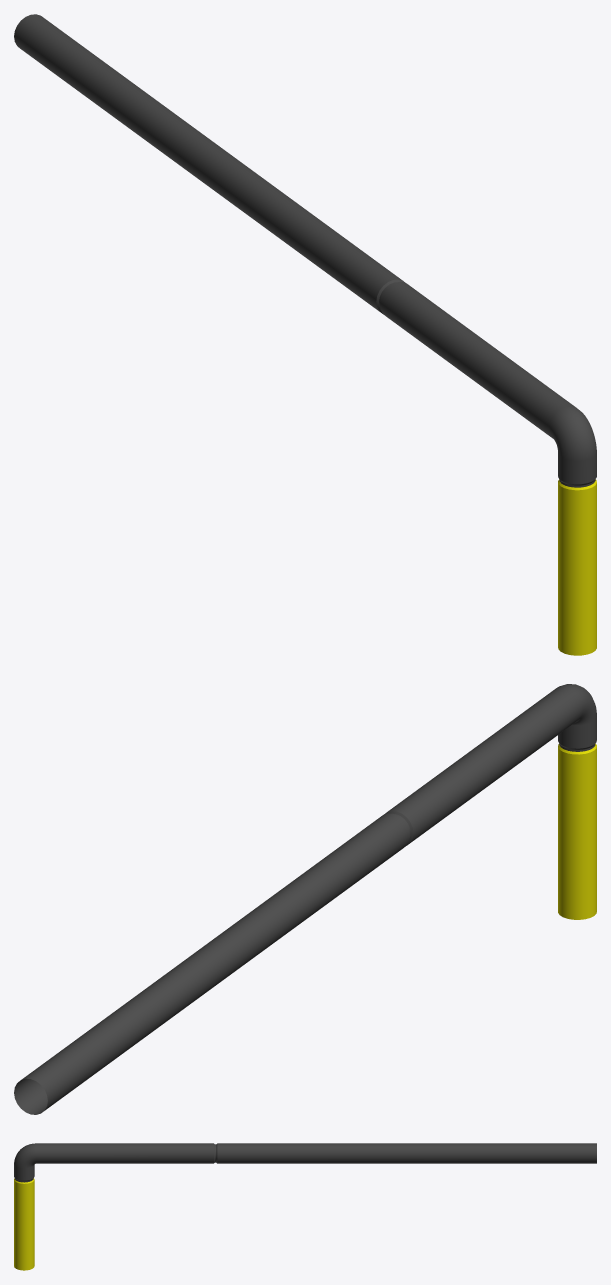
File: env_building_pipesmall01.fbx
The picture shows the model from 3 angles, top to bottom: view 1: azimuth 30°, elevation 25°; view 2: azimuth 150°, elevation 25°; view 3: azimuth 270°, elevation 25°; orthographic projection. The views are drawn at different scales.
Parts seen in each view (by area): view 1: polySurface158; view 2: polySurface158; view 3: polySurface158.
Part boxes in pixels (bbox=[...]): polySurface158: bbox=[14, 14, 596, 655]; polySurface158: bbox=[14, 684, 596, 1114]; polySurface158: bbox=[14, 1143, 596, 1270].
Size of the model in its own units: 0.1191 by 0.7796 by 3.38.
